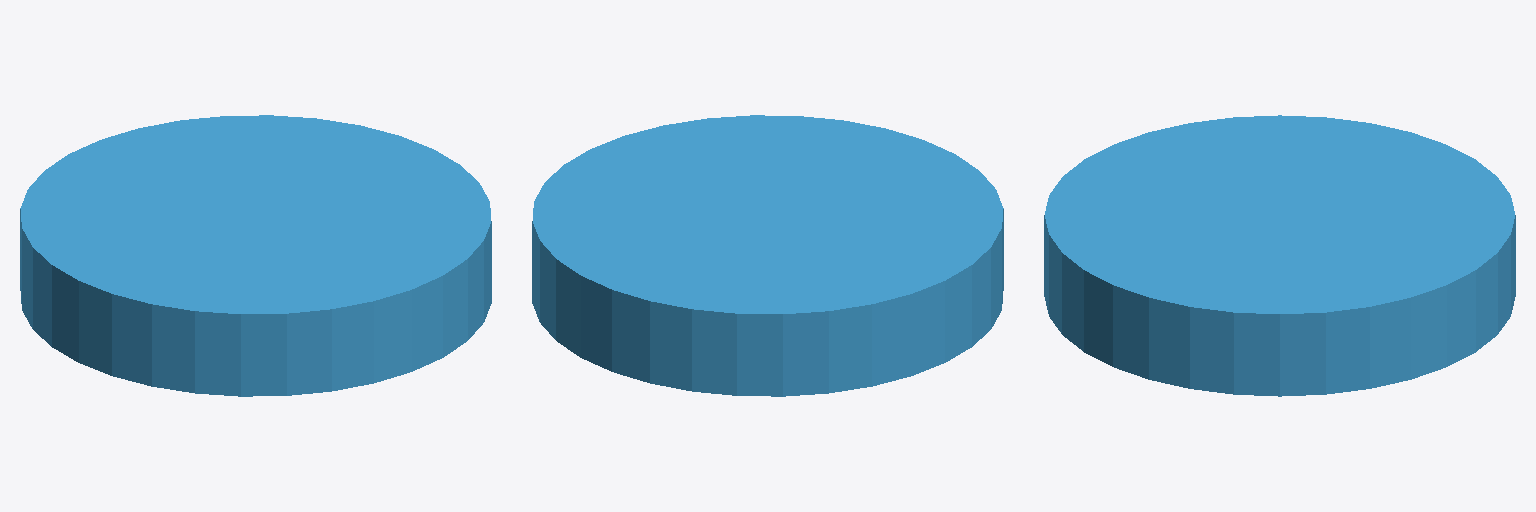
robot.urdf — wheels_only:
<?xml version="1.0"?>
<robot name="wheels_only">
  <link name="base_link">
    <inertial>
      <mass value="1.0"/>
      <inertia ixx="0.01" ixy="0.0" ixz="0.0" iyy="0.01" iyz="0.0" izz="0.01"/>
    </inertial>
  </link>

  <!-- Outer wheel diameter: 520 mm (radius 0.26 m). Edit length as needed. -->
  <link name="front_left_wheel">
    <visual>
      <geometry>
        <cylinder radius="0.26" length="0.10"/>
      </geometry>
    </visual>
    <visual>
      <geometry>
        <mesh filename="file:///home/aleks/ros2_ws/src/Master/sim_meshes/wheels/fl/fl.stl"
              scale="0.001 0.001 0.001"/>
      </geometry>
    </visual>
    <collision>
      <geometry>
        <cylinder radius="0.26" length="0.10"/>
      </geometry>
    </collision>
    <inertial>
      <mass value="1.0"/>
      <inertia ixx="0.01" ixy="0.0" ixz="0.0" iyy="0.01" iyz="0.0" izz="0.01"/>
    </inertial>
  </link>

  <link name="front_right_wheel">
    <visual>
      <geometry>
        <cylinder radius="0.26" length="0.10"/>
      </geometry>
    </visual>
    <visual>
      <geometry>
        <mesh filename="file:///home/aleks/ros2_ws/src/Master/sim_meshes/wheels/fr/fr.stl"
              scale="0.001 0.001 0.001"/>
      </geometry>
    </visual>
    <collision>
      <geometry>
        <cylinder radius="0.26" length="0.10"/>
      </geometry>
    </collision>
    <inertial>
      <mass value="1.0"/>
      <inertia ixx="0.01" ixy="0.0" ixz="0.0" iyy="0.01" iyz="0.0" izz="0.01"/>
    </inertial>
  </link>

  <link name="rear_left_wheel">
    <visual>
      <geometry>
        <cylinder radius="0.26" length="0.10"/>
      </geometry>
    </visual>
    <visual>
      <geometry>
        <mesh filename="file:///home/aleks/ros2_ws/src/Master/sim_meshes/wheels/rl/rl.stl"
              scale="0.001 0.001 0.001"/>
      </geometry>
    </visual>
    <collision>
      <geometry>
        <cylinder radius="0.26" length="0.10"/>
      </geometry>
    </collision>
    <inertial>
      <mass value="1.0"/>
      <inertia ixx="0.01" ixy="0.0" ixz="0.0" iyy="0.01" iyz="0.0" izz="0.01"/>
    </inertial>
  </link>

  <link name="rear_right_wheel">
    <visual>
      <geometry>
        <cylinder radius="0.26" length="0.10"/>
      </geometry>
    </visual>
    <visual>
      <geometry>
        <mesh filename="file:///home/aleks/ros2_ws/src/Master/sim_meshes/wheels/rr/rr.stl"
              scale="0.001 0.001 0.001"/>
      </geometry>
    </visual>
    <collision>
      <geometry>
        <cylinder radius="0.26" length="0.10"/>
      </geometry>
    </collision>
    <inertial>
      <mass value="1.0"/>
      <inertia ixx="0.01" ixy="0.0" ixz="0.0" iyy="0.01" iyz="0.0" izz="0.01"/>
    </inertial>
  </link>

  <!-- All wheels fixed at origin, no collision geometry. -->
  <joint name="front_left_wheel_joint" type="fixed">
    <parent link="base_link"/>
    <child link="front_left_wheel"/>
    <origin xyz="0 0 0" rpy="0 0 0"/>
  </joint>

  <joint name="front_right_wheel_joint" type="fixed">
    <parent link="base_link"/>
    <child link="front_right_wheel"/>
    <origin xyz="0 0 0" rpy="0 0 0"/>
  </joint>

  <joint name="rear_left_wheel_joint" type="fixed">
    <parent link="base_link"/>
    <child link="rear_left_wheel"/>
    <origin xyz="0 0 0" rpy="0 0 0"/>
  </joint>

  <joint name="rear_right_wheel_joint" type="fixed">
    <parent link="base_link"/>
    <child link="rear_right_wheel"/>
    <origin xyz="0 0 0" rpy="0 0 0"/>
  </joint>
</robot>

--- Render facts (derived) ---
Views: 3 orthographic renders of the robot side by side, from view 1: azimuth 30°, elevation 25°; view 2: azimuth 150°, elevation 25°; view 3: azimuth 270°, elevation 25°.
Model wheels_only with 5 links and 4 joints (4 fixed), rooted at base_link, posed every joint at zero.
Links seen in each view (by area): view 1: front_left_wheel; view 2: front_left_wheel; view 3: front_left_wheel.
Link boxes in pixels (<box>): front_left_wheel: <box>20,115,491,396</box>; front_left_wheel: <box>532,115,1003,396</box>; front_left_wheel: <box>1044,115,1515,396</box>.
Bounding box of the posed robot: 0.52 × 0.52 × 0.1 m (x, y, z).
Geometry: only primitive shapes (box / cylinder / sphere) drawn; not drawn: 4 mesh visuals (reference in a form the renderer does not follow).
